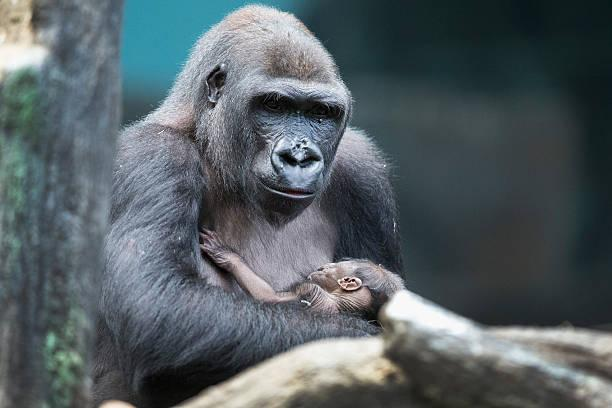gorille_Autres: (128, 0, 403, 353)
